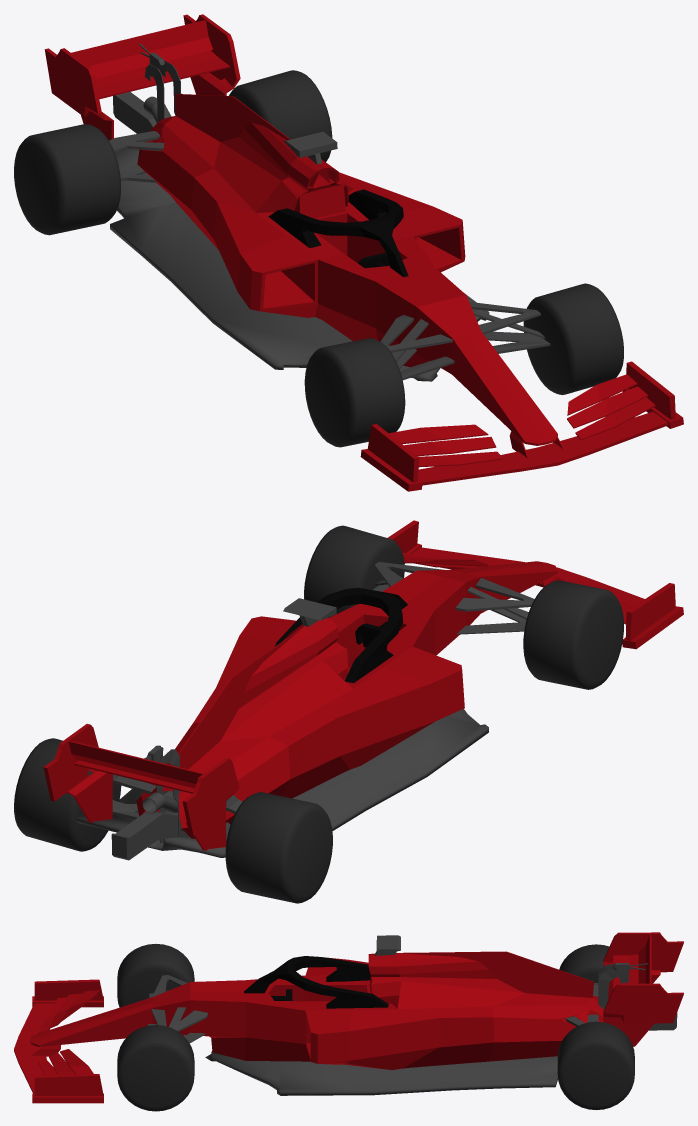
The model's file is F1LowPoly.glb.
The picture shows the model from 3 angles, top to bottom: view 1: azimuth 30°, elevation 25°; view 2: azimuth 150°, elevation 25°; view 3: azimuth 270°, elevation 25°; orthographic projection. The views are drawn at different scales.
Visible parts, largest first — view 1: BODY, Front wing, Floor, WHEEL_REAR, WHEEL_STEERABLE_FR, WHEEL_STEERABLE_FL, Rear wing, Front Nose, Halo, Rear wing Top Element, Suspensions Upper Triangle, Suspensions Lower Triangle (+5 smaller); view 2: BODY, WHEEL_REAR, Floor, WHEEL_STEERABLE_FR, Rear wing, Front wing, WHEEL_STEERABLE_FL, Halo, Raer Light, Rear wing Top Element, Front Nose, Suspensions Upper Triangle (+4 smaller); view 3: BODY, Floor, Front wing, WHEEL_REAR, Rear wing, WHEEL_STEERABLE_FL, Halo, WHEEL_STEERABLE_FR, Front Nose, DRS, Suspensions Upper Triangle, Rear wing Top Element (+2 smaller).
Boxes of the visible parts, x1=… form: BODY: x1=137, y1=94, x2=480, y2=373; Front wing: x1=360, y1=361, x2=683, y2=491; Floor: x1=110, y1=148, x2=489, y2=381; WHEEL_REAR: x1=14, y1=70, x2=332, y2=235; WHEEL_STEERABLE_FR: x1=304, y1=338, x2=405, y2=447; WHEEL_STEERABLE_FL: x1=523, y1=283, x2=623, y2=394; Rear wing: x1=44, y1=14, x2=240, y2=140; Front Nose: x1=451, y1=330, x2=557, y2=445; Halo: x1=268, y1=189, x2=408, y2=277; Rear wing Top Element: x1=71, y1=20, x2=213, y2=78; Suspensions Upper Triangle: x1=380, y1=302, x2=540, y2=352; Suspensions Lower Triangle: x1=396, y1=331, x2=550, y2=380; BODY: x1=136, y1=569, x2=480, y2=838; WHEEL_REAR: x1=14, y1=738, x2=332, y2=903; Floor: x1=77, y1=708, x2=488, y2=857; WHEEL_STEERABLE_FR: x1=523, y1=580, x2=623, y2=689; Rear wing: x1=43, y1=724, x2=239, y2=850; Front wing: x1=388, y1=520, x2=683, y2=649; WHEEL_STEERABLE_FL: x1=304, y1=525, x2=404, y2=617; Halo: x1=274, y1=587, x2=407, y2=682; Raer Light: x1=111, y1=792, x2=177, y2=860; Rear wing Top Element: x1=68, y1=740, x2=203, y2=788; Front Nose: x1=452, y1=561, x2=557, y2=613; Suspensions Upper Triangle: x1=374, y1=562, x2=534, y2=611; BODY: x1=152, y1=951, x2=603, y2=1069; Floor: x1=205, y1=1051, x2=558, y2=1095; Front wing: x1=14, y1=979, x2=103, y2=1103; WHEEL_REAR: x1=557, y1=944, x2=634, y2=1110; Rear wing: x1=603, y1=932, x2=683, y2=1046; WHEEL_STEERABLE_FL: x1=117, y1=1025, x2=194, y2=1111; Halo: x1=244, y1=956, x2=388, y2=1008; WHEEL_STEERABLE_FR: x1=117, y1=944, x2=194, y2=1007; Front Nose: x1=30, y1=997, x2=152, y2=1046; DRS: x1=598, y1=963, x2=647, y2=1009; Suspensions Upper Triangle: x1=151, y1=975, x2=208, y2=1031; Rear wing Top Element: x1=638, y1=934, x2=651, y2=983.
Bounding box in the file's own units: 2.01 × 1.11 × 5.55.
